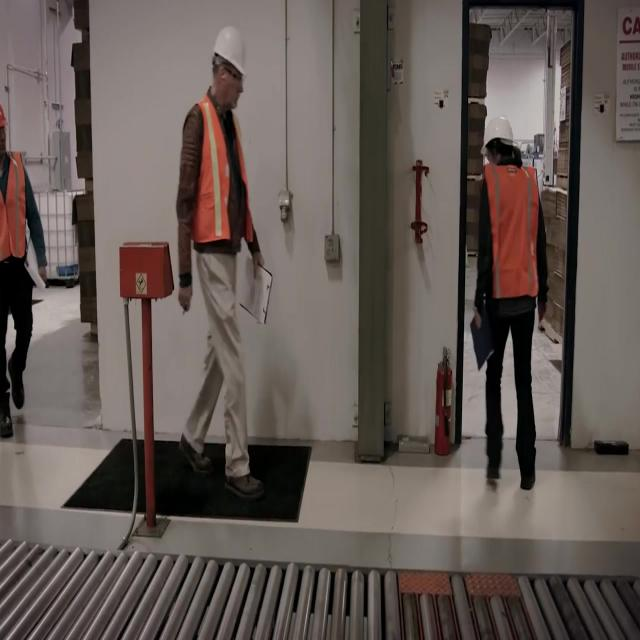Reflective-Jacket: (174, 94, 258, 265), (473, 162, 548, 316), (0, 148, 36, 284)
Safety-Helmet: (203, 15, 255, 90), (477, 105, 521, 157), (0, 91, 14, 141)
